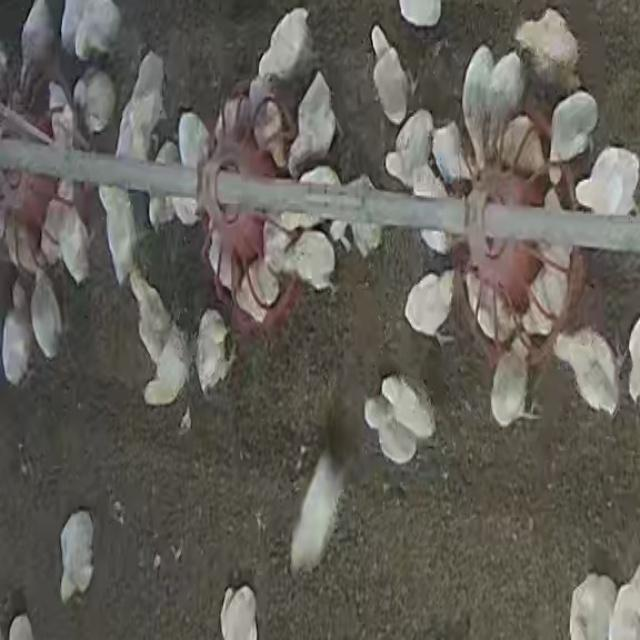chicken: (554, 323, 623, 422), (288, 70, 338, 176), (516, 11, 581, 89), (295, 164, 351, 253), (572, 143, 638, 218), (51, 181, 93, 288), (336, 175, 387, 262), (409, 164, 456, 258), (99, 185, 144, 283), (548, 94, 595, 185), (487, 339, 535, 425), (370, 23, 410, 122), (387, 110, 434, 193), (360, 397, 418, 463), (58, 506, 96, 601), (284, 228, 338, 293), (260, 13, 312, 79), (384, 378, 443, 436), (404, 272, 454, 340), (526, 252, 570, 328), (498, 113, 545, 184), (12, 0, 54, 79), (2, 282, 35, 382), (566, 568, 611, 640), (254, 77, 287, 174), (177, 114, 206, 223), (145, 334, 189, 405), (465, 45, 489, 172), (127, 51, 175, 114), (32, 274, 69, 355), (76, 0, 124, 62), (231, 259, 275, 325), (132, 272, 168, 351), (218, 580, 264, 640), (430, 122, 468, 194), (148, 138, 178, 228), (608, 559, 640, 640), (197, 311, 229, 392), (487, 51, 522, 119), (209, 95, 251, 150), (76, 70, 115, 129), (48, 82, 78, 158), (9, 216, 42, 280), (208, 227, 239, 289), (122, 105, 155, 161), (626, 318, 640, 403), (398, 1, 441, 28), (9, 611, 38, 640)
